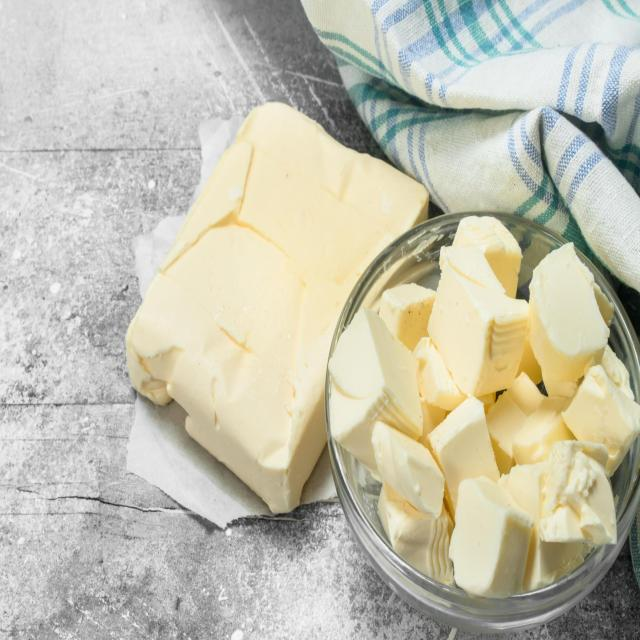Butter: (123, 100, 431, 514), (325, 214, 640, 597)
